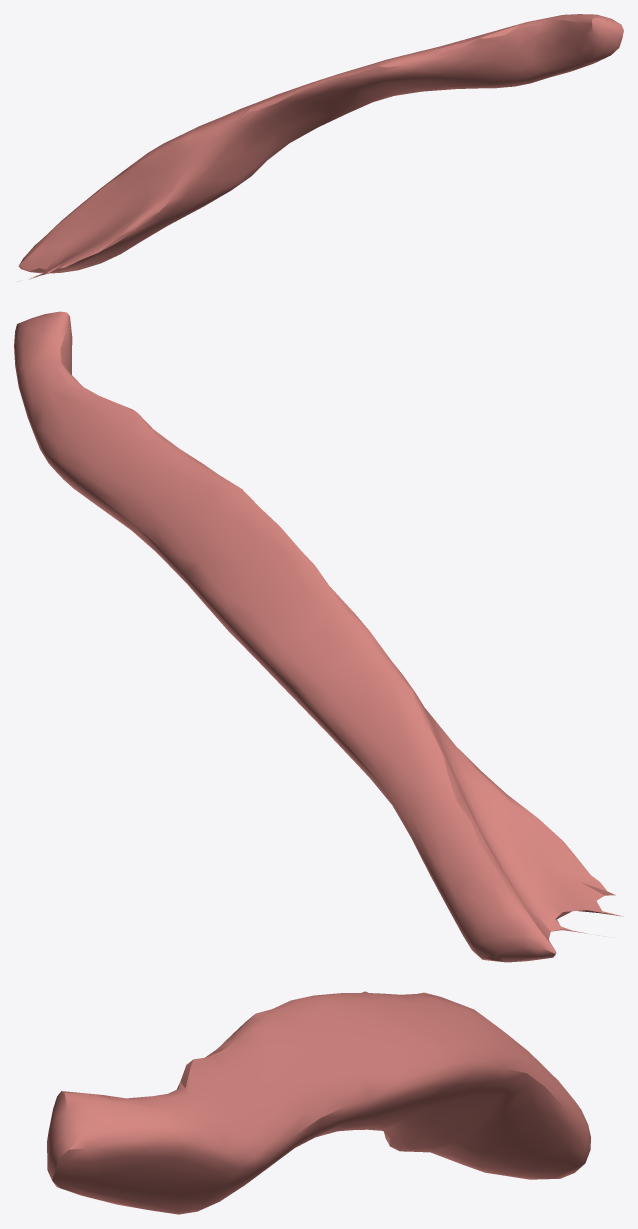
The model's file is fma299413_mm1780m.glb.
The picture shows the model from 3 angles, top to bottom: view 1: azimuth 30°, elevation 25°; view 2: azimuth 150°, elevation 25°; view 3: azimuth 270°, elevation 25°; orthographic projection. The views are drawn at different scales.
Visible parts, largest first — view 1: FMA299413_MM1780M; view 2: FMA299413_MM1780M; view 3: FMA299413_MM1780M.
Part boxes in pixels (x1,y1,x2,y2): FMA299413_MM1780M: (17,14,623,281); FMA299413_MM1780M: (14,311,623,962); FMA299413_MM1780M: (47,991,590,1214).
Bounding box in the file's own units: 0.0823 × 0.0376 × 0.0385.
